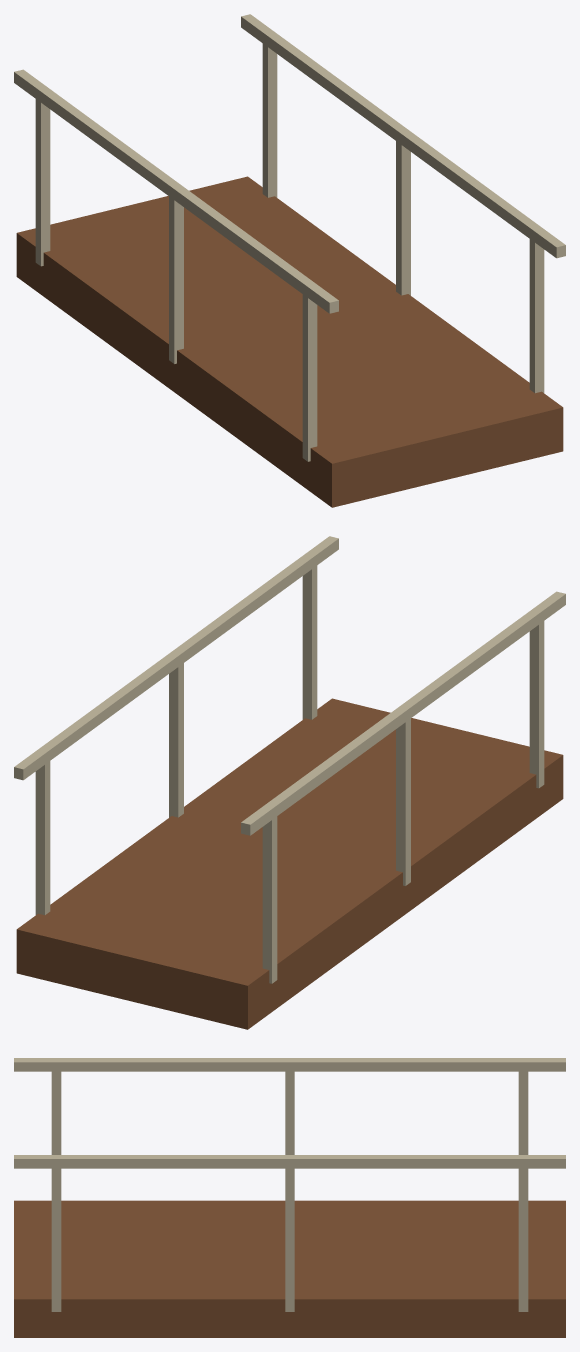
File: gangway.glb
The picture shows the model from 3 angles, top to bottom: view 1: azimuth 30°, elevation 25°; view 2: azimuth 150°, elevation 25°; view 3: azimuth 270°, elevation 25°; orthographic projection. The views are drawn at different scales.
Visible parts, largest first — view 1: gangway; view 2: gangway; view 3: gangway.
Part boxes in pixels (bbox=[...]): gangway: bbox=[14, 14, 565, 507]; gangway: bbox=[14, 536, 565, 1029]; gangway: bbox=[14, 1058, 565, 1337].
Bounding box in the file's own units: 1.12 × 0.935 × 2.6.
